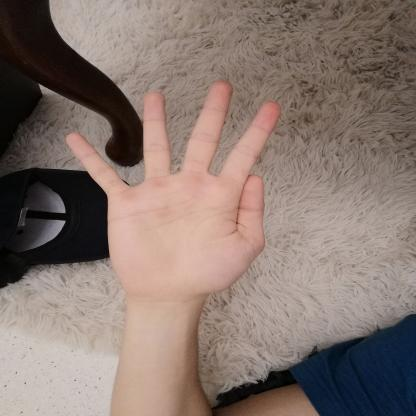SHEEN: (44, 67, 306, 309)
